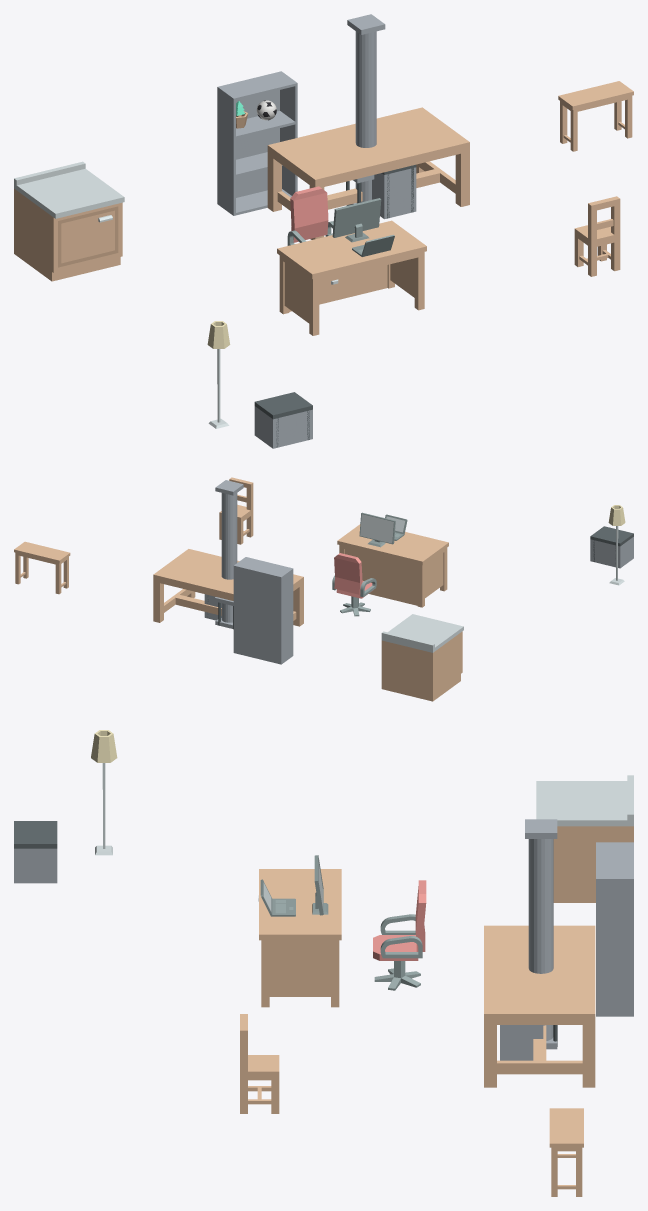
3 views of the same model, one above another, from view 1: azimuth 30°, elevation 25°; view 2: azimuth 150°, elevation 25°; view 3: azimuth 270°, elevation 25° (orthographic). The views are drawn at different scales.
Visible parts, largest first — view 1: table_green__table(Clone), desk_blue__desk(Clone), cabinet_blue__kitchenCabinet(Clone), cabinet_blue__door, column_cyan__column_cyan shaft, chair_cyan__chair(Clone), sidetable_brown__sideTable(Clone), shelf_orange__shelf_orange side_l, shelf_orange__shelf_orange back, deskchair_black__chair, bin_gray__bin_gray shell, crate_red__crate_red shell (+7 smaller); view 2: cabinet_blue__kitchenCabinet(Clone), desk_blue__desk(Clone), table_green__table(Clone), shelf_orange__shelf_orange back, column_cyan__column_cyan shaft, sidetable_brown__sideTable(Clone), deskchair_black__chair, shelf_orange__shelf_orange side_l, chair_cyan__chair(Clone), monitor_gray__computerScreen(Clone), crate_red__crate_red shell, shelf_orange__shelf_orange board3 (+2 smaller); view 3: table_green__table(Clone), desk_blue__desk(Clone), cabinet_blue__kitchenCabinet(Clone), shelf_orange__shelf_orange side_r, column_cyan__column_cyan shaft, sidetable_brown__sideTable(Clone), deskchair_black__chair, chair_cyan__chair(Clone), crate_red__crate_red shell, bin_gray__bin_gray shell, shelf_orange__shelf_orange board3, crate_red__crate_red lid (+4 smaller).
Part boxes in pixels (x1,y1,x2,y2): table_green__table(Clone): (267,107,469,239); desk_blue__desk(Clone): (277,220,426,335); cabinet_blue__kitchenCabinet(Clone): (14,161,124,281); cabinet_blue__door: (58,206,118,267); column_cyan__column_cyan shaft: (355,31,376,202); chair_cyan__chair(Clone): (574,196,620,276); sidetable_brown__sideTable(Clone): (558,81,633,151); shelf_orange__shelf_orange side_l: (217,86,235,215); shelf_orange__shelf_orange back: (220,72,279,197); deskchair_black__chair: (287,186,333,245); bin_gray__bin_gray shell: (372,167,416,219); crate_red__crate_red shell: (254,406,312,448); cabinet_blue__kitchenCabinet(Clone): (381,614,463,701); desk_blue__desk(Clone): (337,524,448,607); table_green__table(Clone): (153,549,303,626); shelf_orange__shelf_orange back: (235,565,279,663); column_cyan__column_cyan shaft: (221,493,237,622); sidetable_brown__sideTable(Clone): (14,541,70,594); deskchair_black__chair: (332,553,376,598); shelf_orange__shelf_orange side_l: (279,568,293,664); chair_cyan__chair(Clone): (219,477,253,544); monitor_gray__computerScreen(Clone): (359,512,395,547); crate_red__crate_red shell: (590,537,633,568); shelf_orange__shelf_orange board3: (236,557,291,576); table_green__table(Clone): (484,925,595,1087); desk_blue__desk(Clone): (259,869,341,1007); cabinet_blue__kitchenCabinet(Clone): (536,775,633,902); shelf_orange__shelf_orange side_r: (596,877,633,1016); column_cyan__column_cyan shaft: (528,839,553,1040); sidetable_brown__sideTable(Clone): (549,1108,583,1196); deskchair_black__chair: (373,880,426,960); chair_cyan__chair(Clone): (240,1014,279,1113); crate_red__crate_red shell: (14,848,57,883); bin_gray__bin_gray shell: (500,1025,543,1060); shelf_orange__shelf_orange board3: (596,843,631,877); crate_red__crate_red lid: (14,821,57,848).
Bounding box in the file's own units: 7.66 × 2.2 × 5.72.
